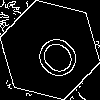O: (25, 25, 84, 85)
